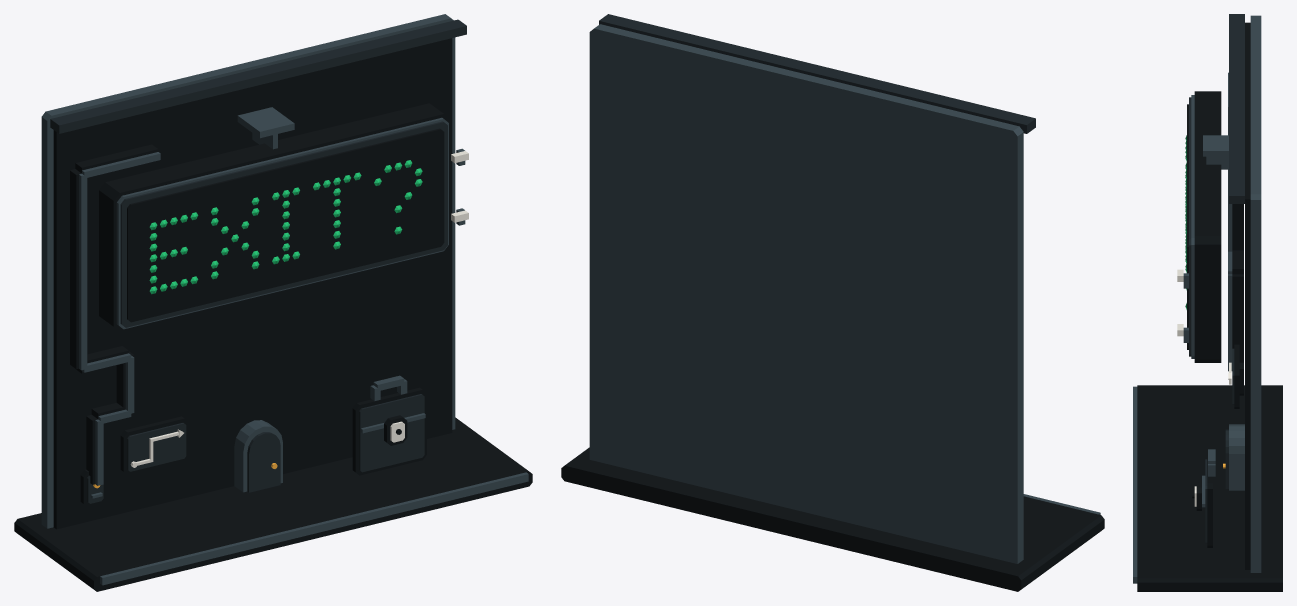
3 renders of one model, left to right at view 1: azimuth 30°, elevation 25°; view 2: azimuth 150°, elevation 25°; view 3: azimuth 270°, elevation 25°, orthographic. The views are drawn at different scales.
Visible parts, largest first — view 1: Exit Liquidity sign; view 2: Exit Liquidity sign; view 3: Exit Liquidity sign.
Boxes of the visible parts, bbox=[...] form: Exit Liquidity sign: bbox=[14, 14, 532, 591]; Exit Liquidity sign: bbox=[561, 14, 1104, 591]; Exit Liquidity sign: bbox=[1133, 14, 1282, 591].
Bounding box in the file's own units: 1.08 × 1 × 0.3475.
